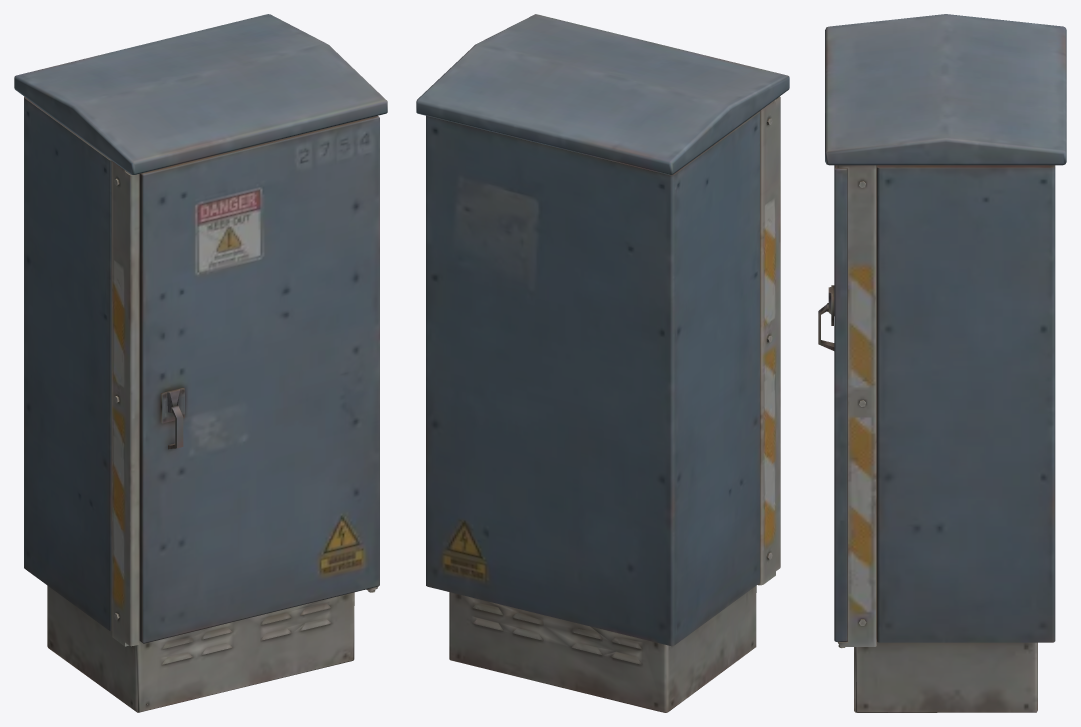
The model's file is utility_box_01.glb.
3 views of the same model, side by side, from view 1: azimuth 30°, elevation 25°; view 2: azimuth 150°, elevation 25°; view 3: azimuth 270°, elevation 25° (orthographic).
Visible parts, largest first — view 1: utility_box_01_box; view 2: utility_box_01_box; view 3: utility_box_01_box.
Boxes of the visible parts, x1,y1,x2,y2 form: utility_box_01_box: [14, 14, 387, 712]; utility_box_01_box: [416, 14, 789, 712]; utility_box_01_box: [818, 14, 1066, 712].
Bounding box in the file's own units: 0.52 × 1.12 × 0.432.
Materials: 1 (1 with a texture image).
